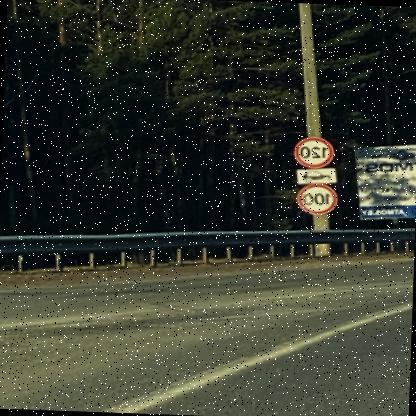speedlimit: (298, 183, 340, 215), (296, 136, 336, 166)
